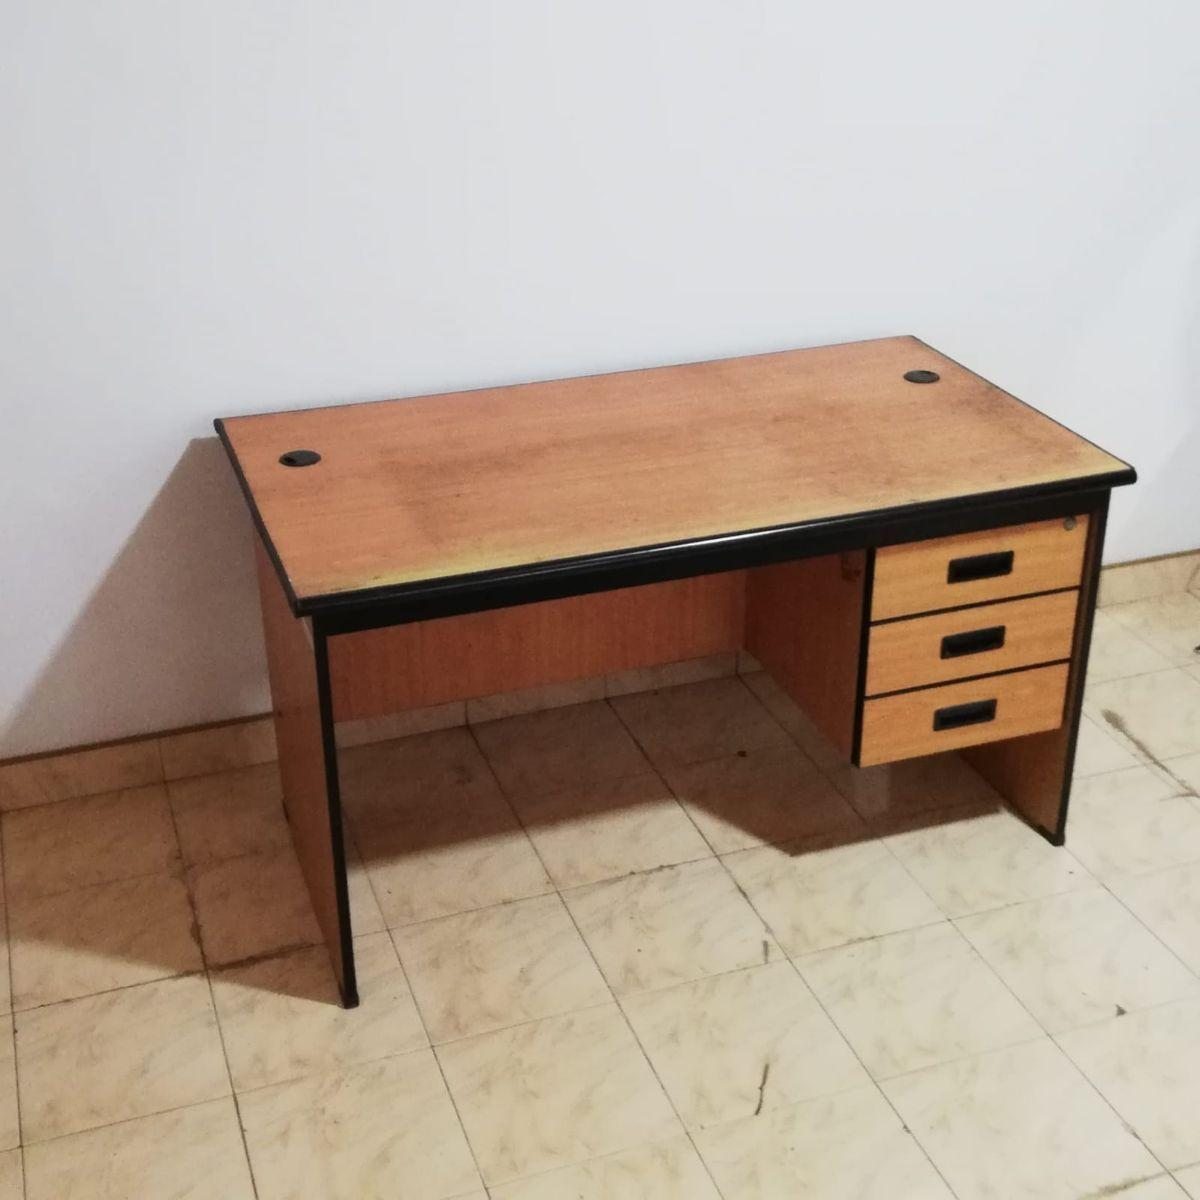Table: (180, 319, 1165, 1033)
